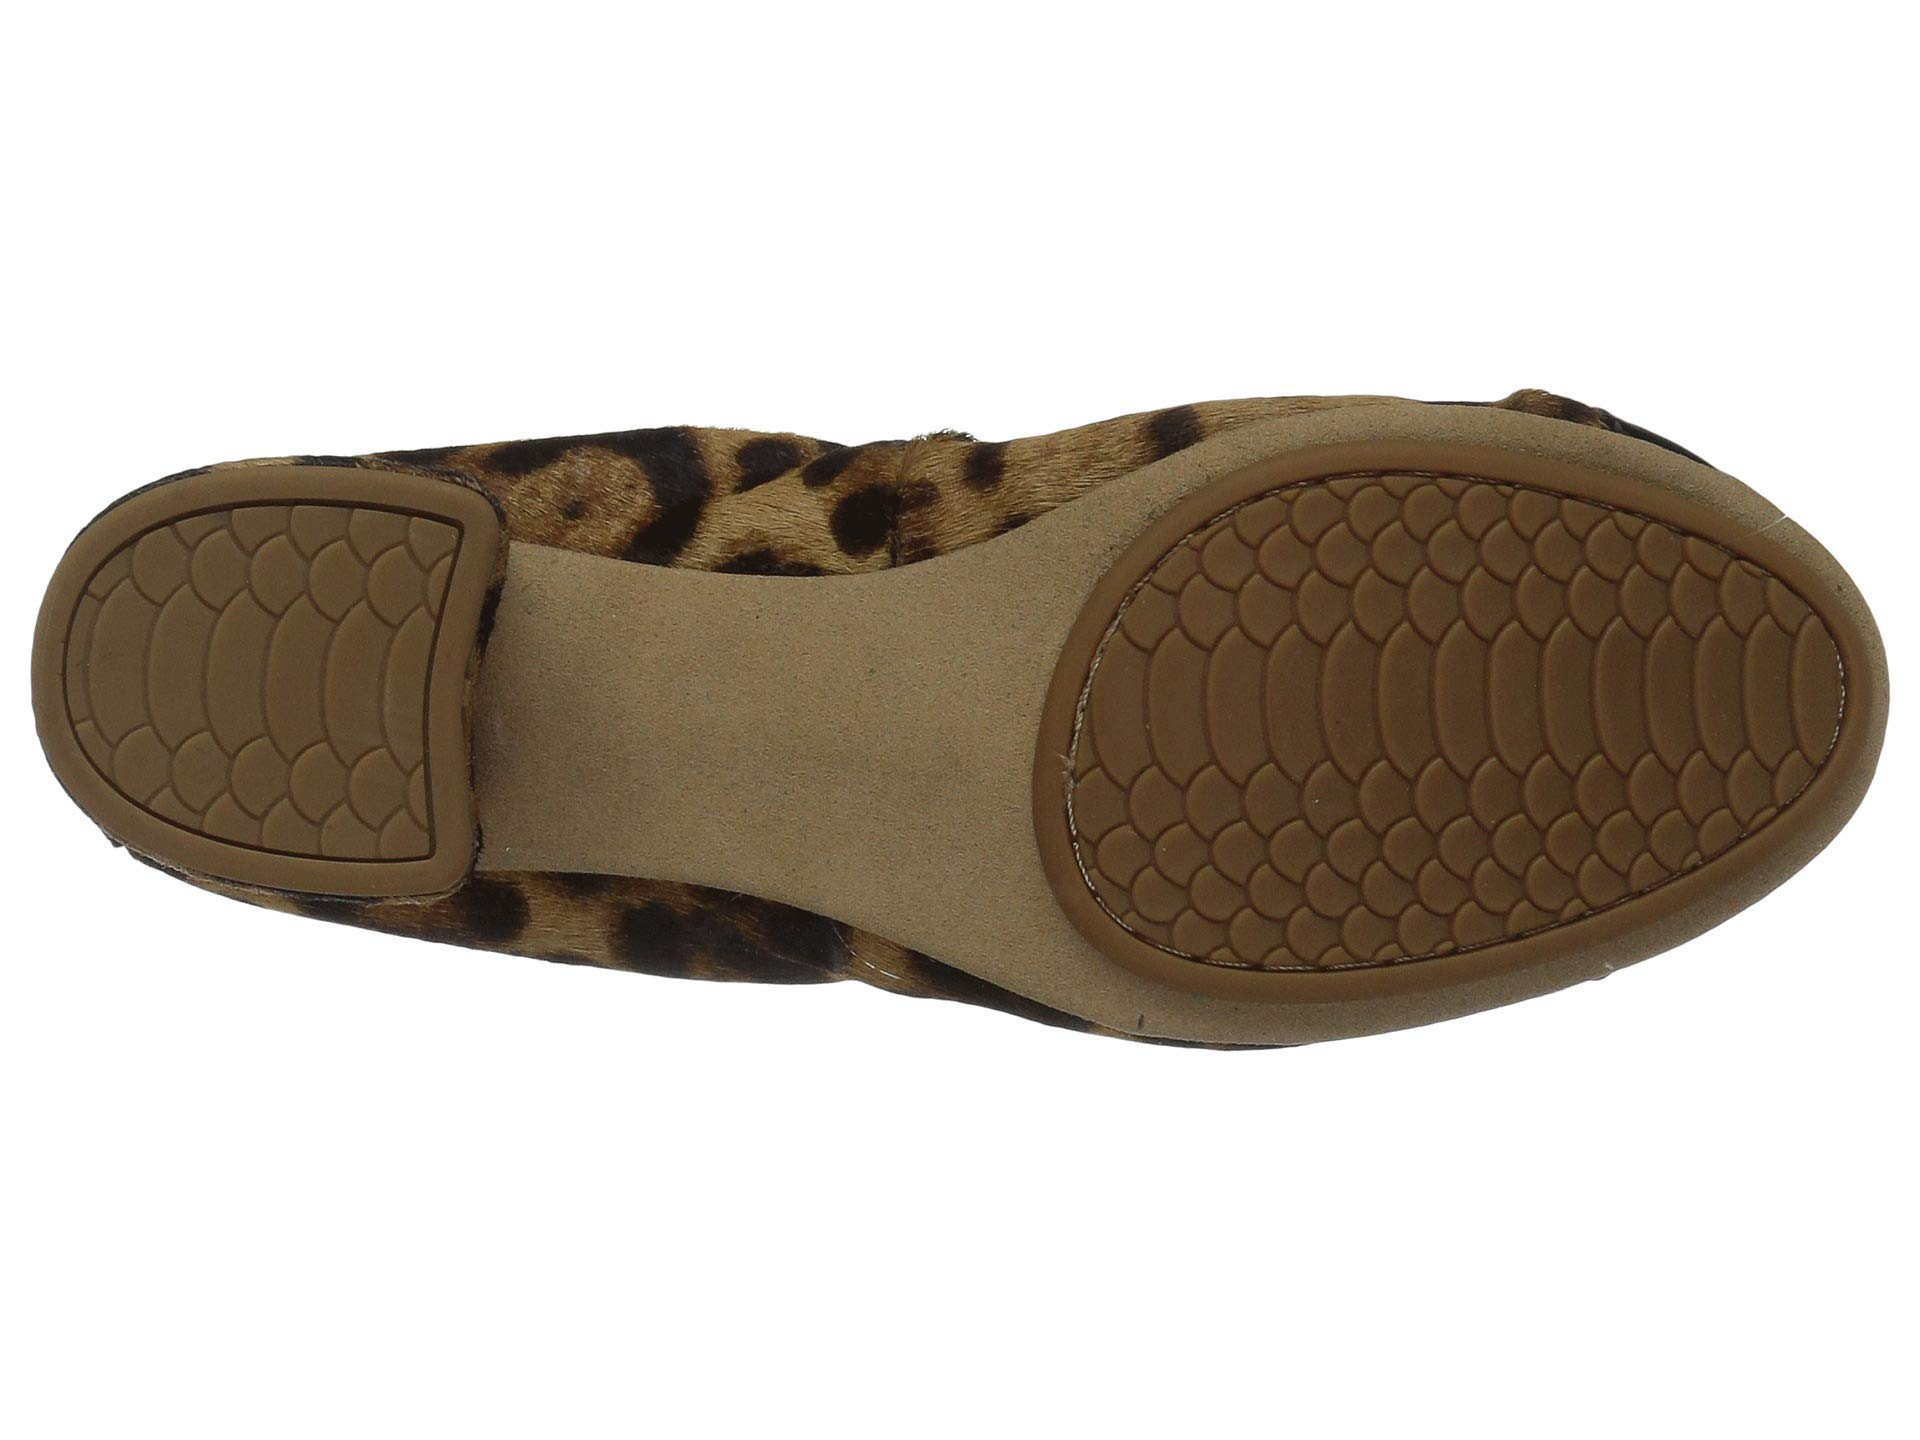exclude: (534, 405, 1005, 532)
line: (1175, 504, 1701, 898)
other: (1175, 504, 1701, 898)
